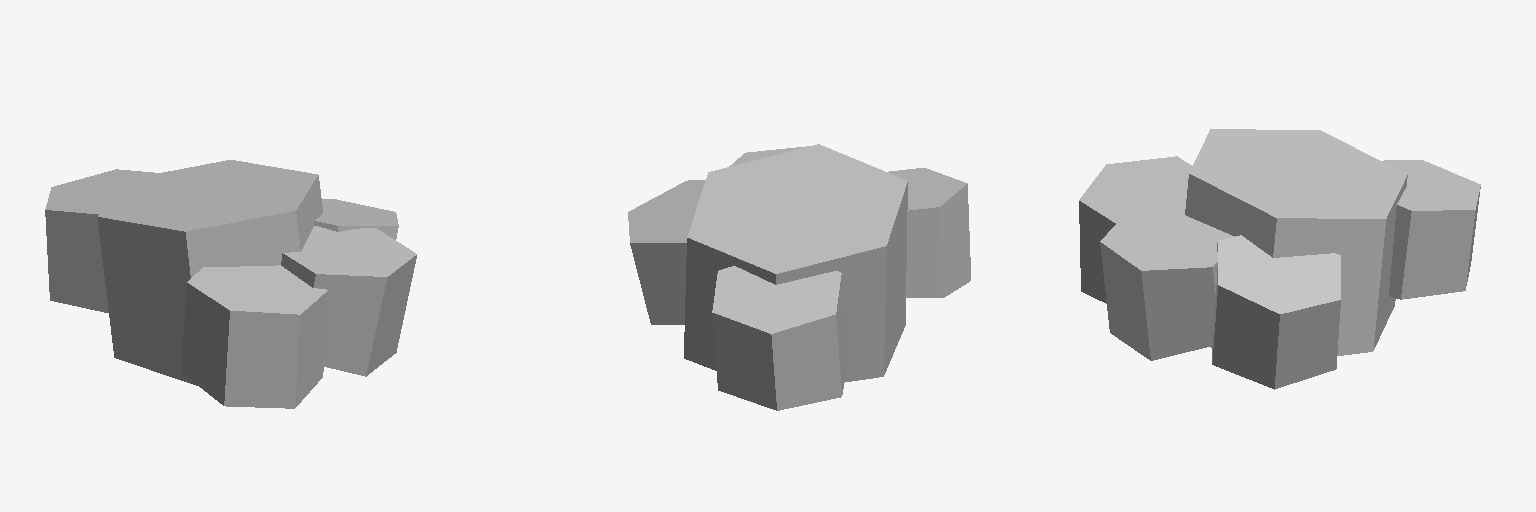
The picture shows the model from 3 angles: view 1: azimuth 30°, elevation 25°; view 2: azimuth 150°, elevation 25°; view 3: azimuth 270°, elevation 25°; orthographic projection.
Parts seen in each view (by area): view 1: group[number redacted], group[number redacted], group[number redacted], group[number redacted], group[number redacted]; view 2: group[number redacted], group[number redacted], group[number redacted], group[number redacted]; view 3: group[number redacted], group[number redacted], group[number redacted], group[number redacted], group[number redacted].
Part boxes in pixels (x1,y1,x2,y2): group[number redacted]: (97,160,322,385); group[number redacted]: (182,265,327,408); group[number redacted]: (281,226,416,376); group[number redacted]: (45,169,157,312); group[number redacted]: (314,199,398,239); group[number redacted]: (684,144,907,381); group[number redacted]: (712,266,847,410); group[number redacted]: (888,168,970,297); group[number redacted]: (628,180,705,324); group[number redacted]: (1185,129,1407,355); group[number redacted]: (1212,235,1340,389); group[number redacted]: (1100,206,1234,360); group[number redacted]: (1382,160,1480,299); group[number redacted]: (1079,156,1191,303).
Size of the model in its own units: 0.2477 by 0.1351 by 0.3079.